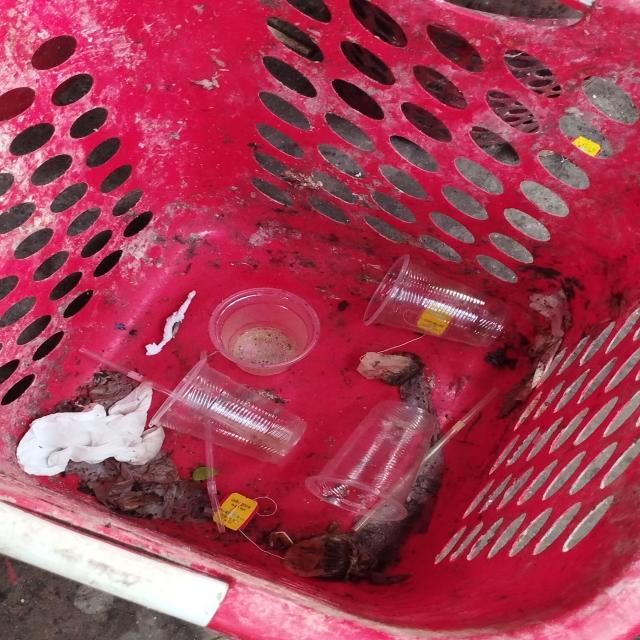plastic: (145, 356, 309, 459), (304, 402, 441, 520), (362, 258, 510, 347), (206, 288, 320, 374)
